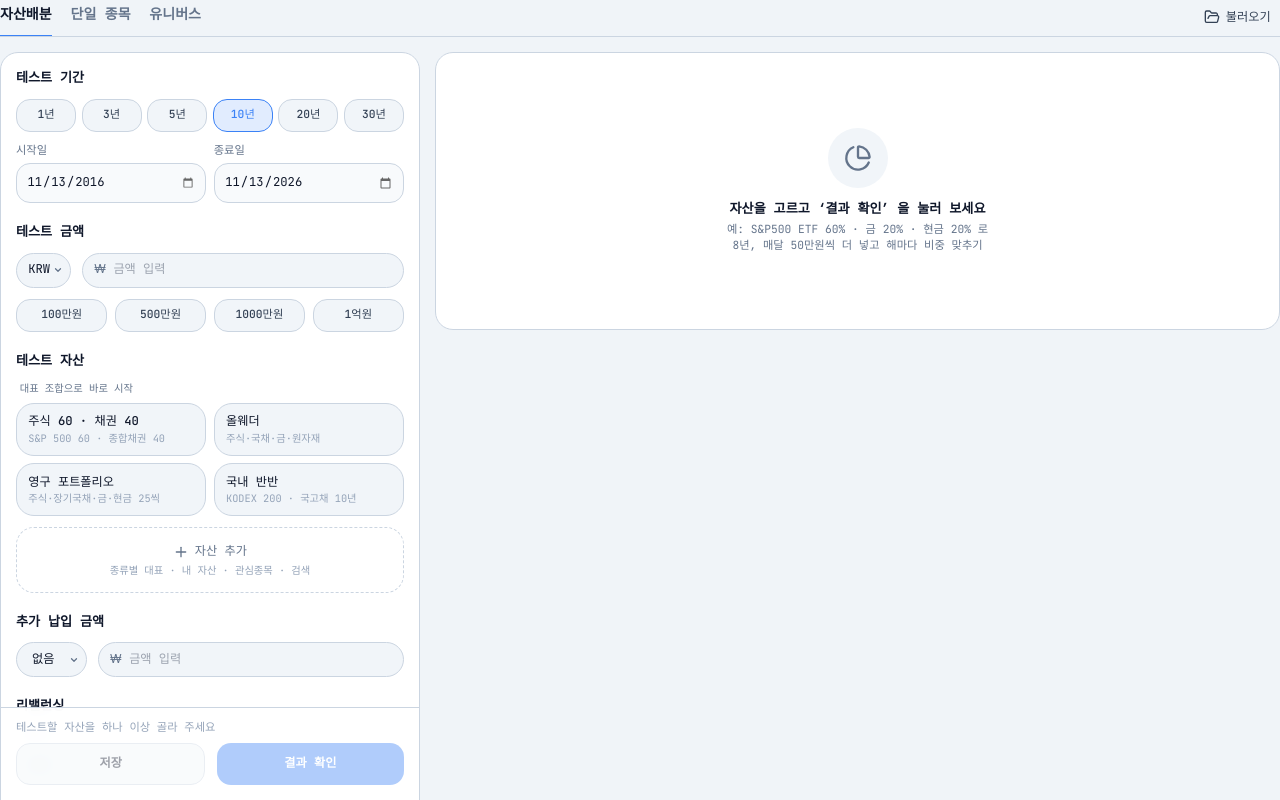
Scenario: 불러오기 창에 둘 다 모인다 › 다른 탭에서 실험을 고르면 자산배분 탭으로 간다
Click the tab "유니버스". click: [175, 18]
box: [149, 0, 201, 37]
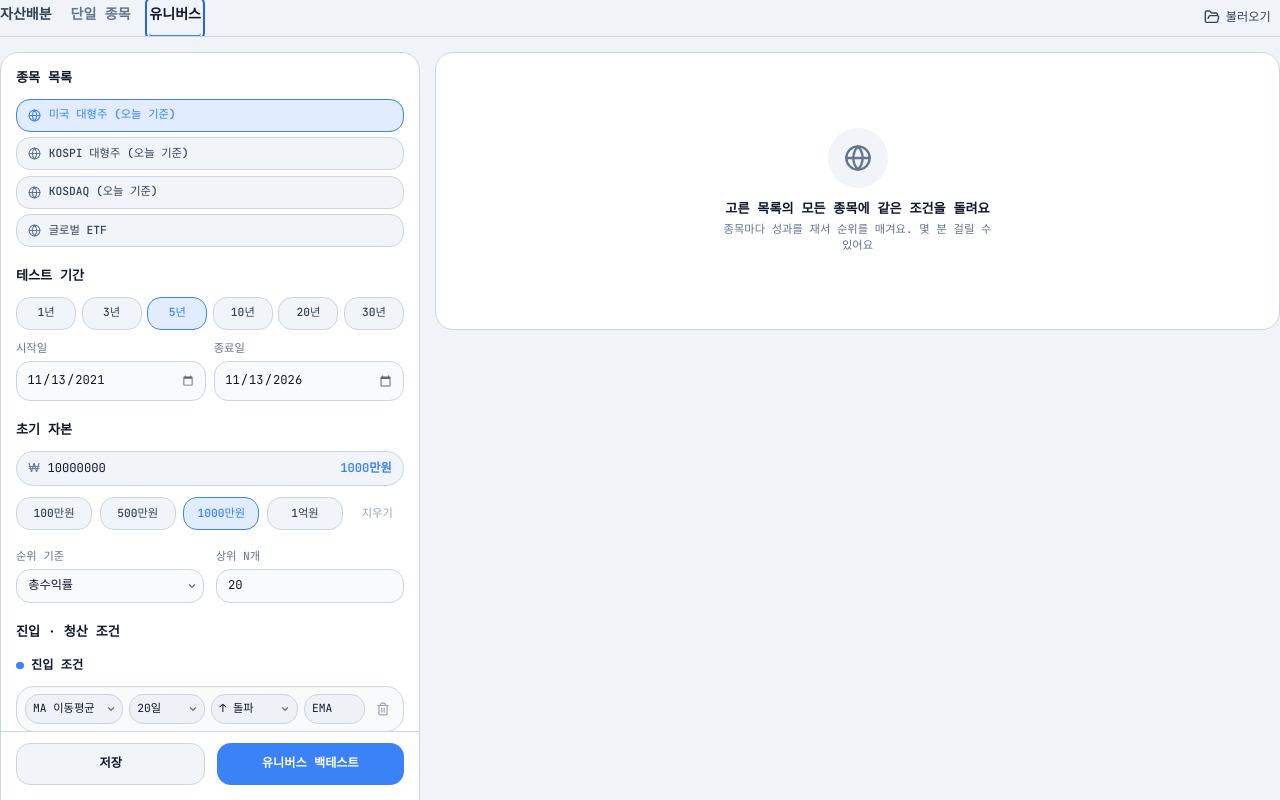
Click the button "불러오기". click: [1237, 17]
box: [1195, 3, 1279, 32]
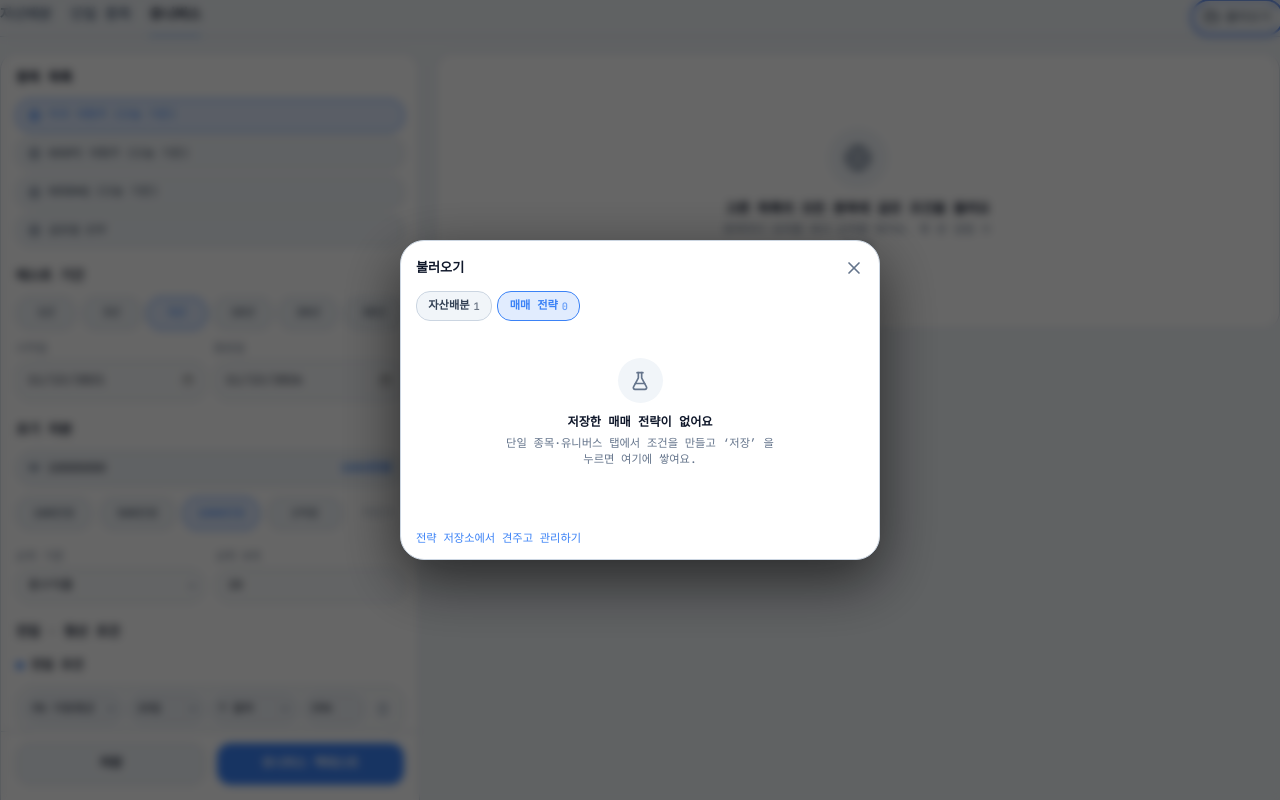
Click the tab "자산배분 1". click: [454, 306]
box: [416, 291, 492, 320]
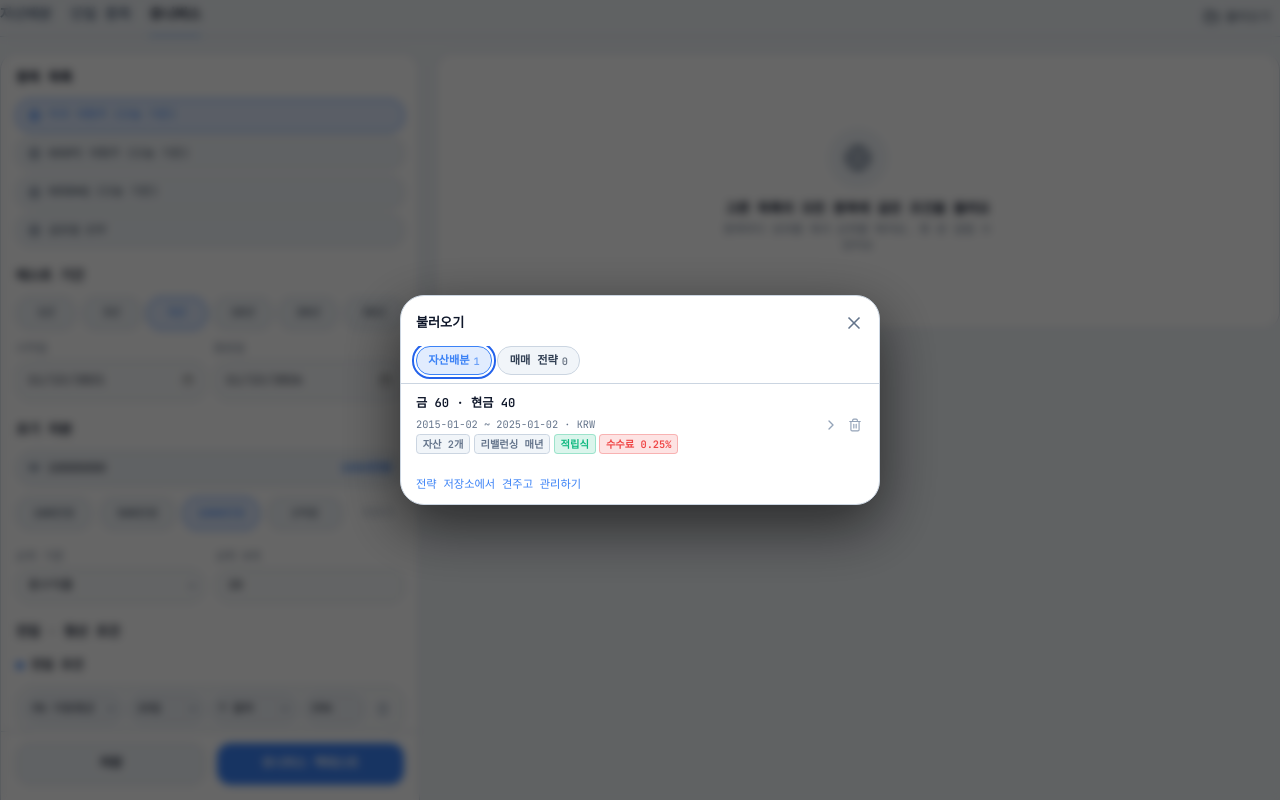
Click the button with aria-label "금 60 · 현금 40 자산배분 실험 열기". click: [466, 403]
box: [401, 384, 842, 466]
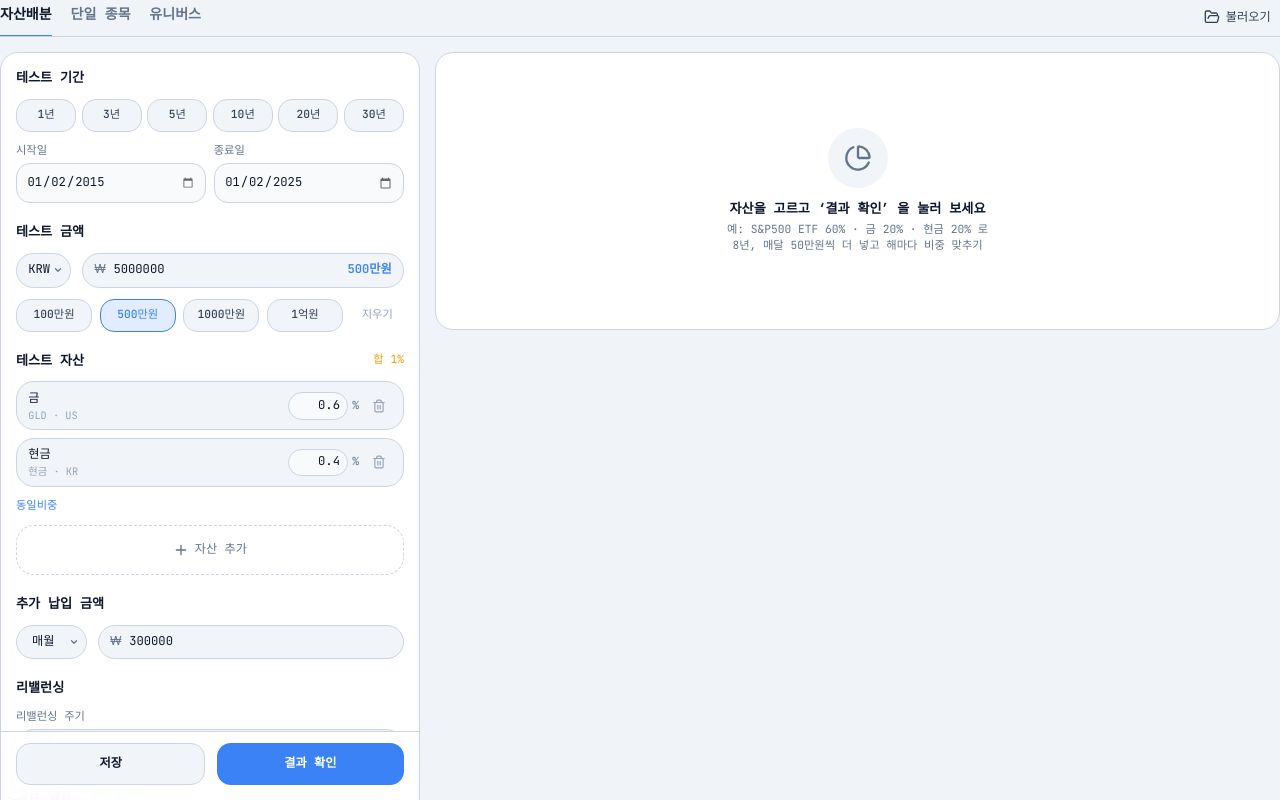
Now the date field labelled "시작일" holds "2015-01-02", box [16, 162, 206, 203]
